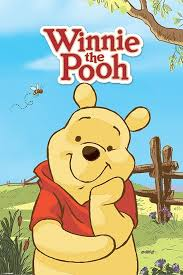Winnie: (34, 83, 153, 217)
